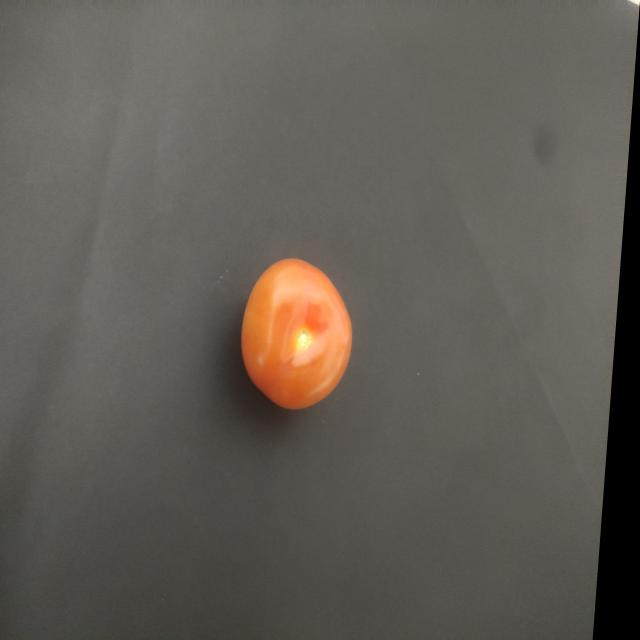sari: (234, 245, 376, 419)
